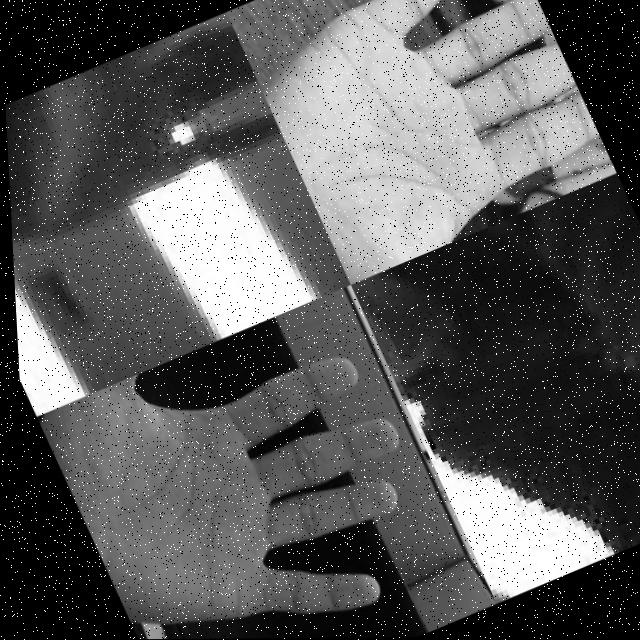hand: (26, 292, 455, 640), (231, 0, 619, 286), (1, 11, 289, 258)
